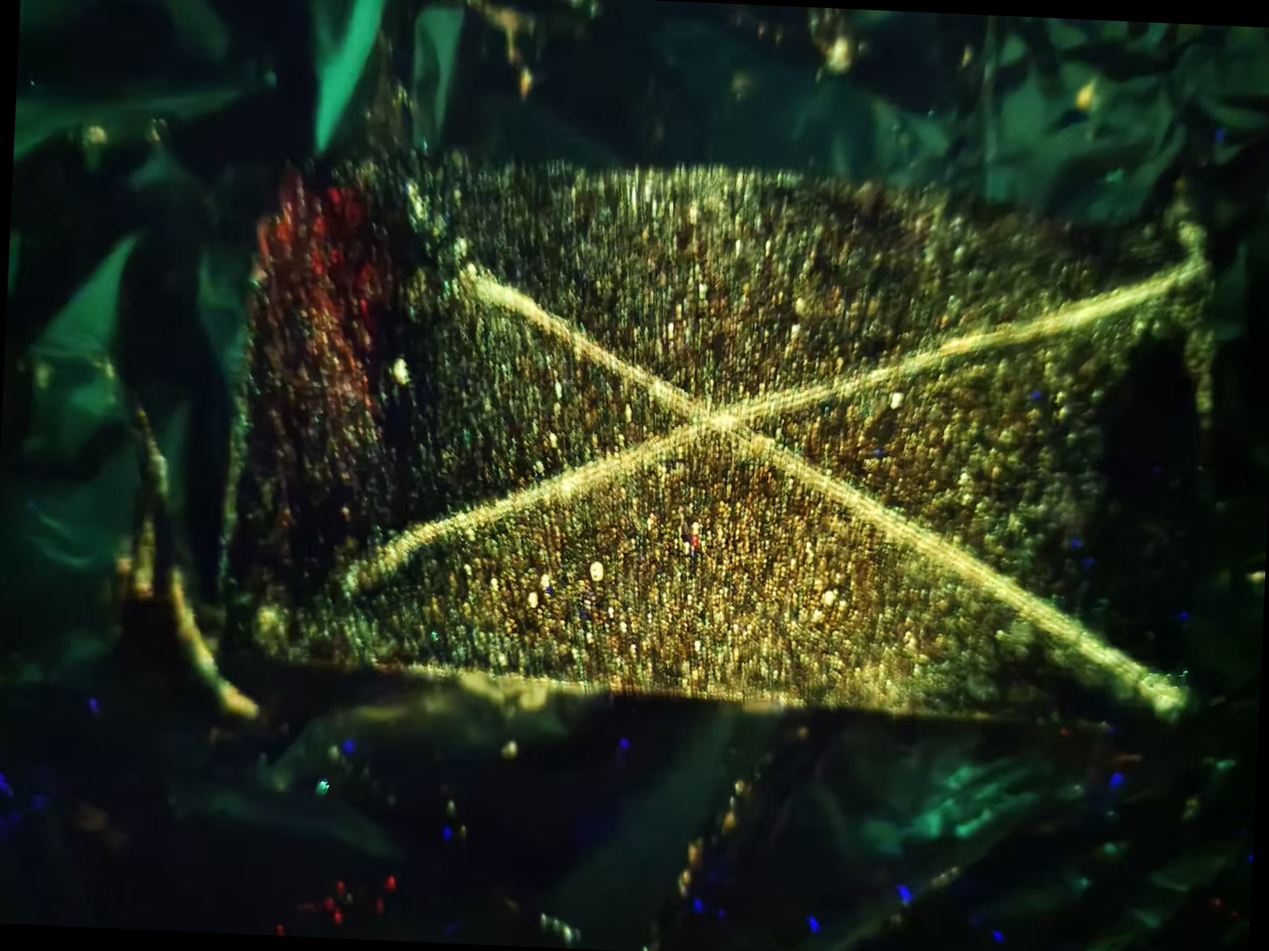Crater: (320, 190, 1218, 637), (425, 244, 1224, 736)
